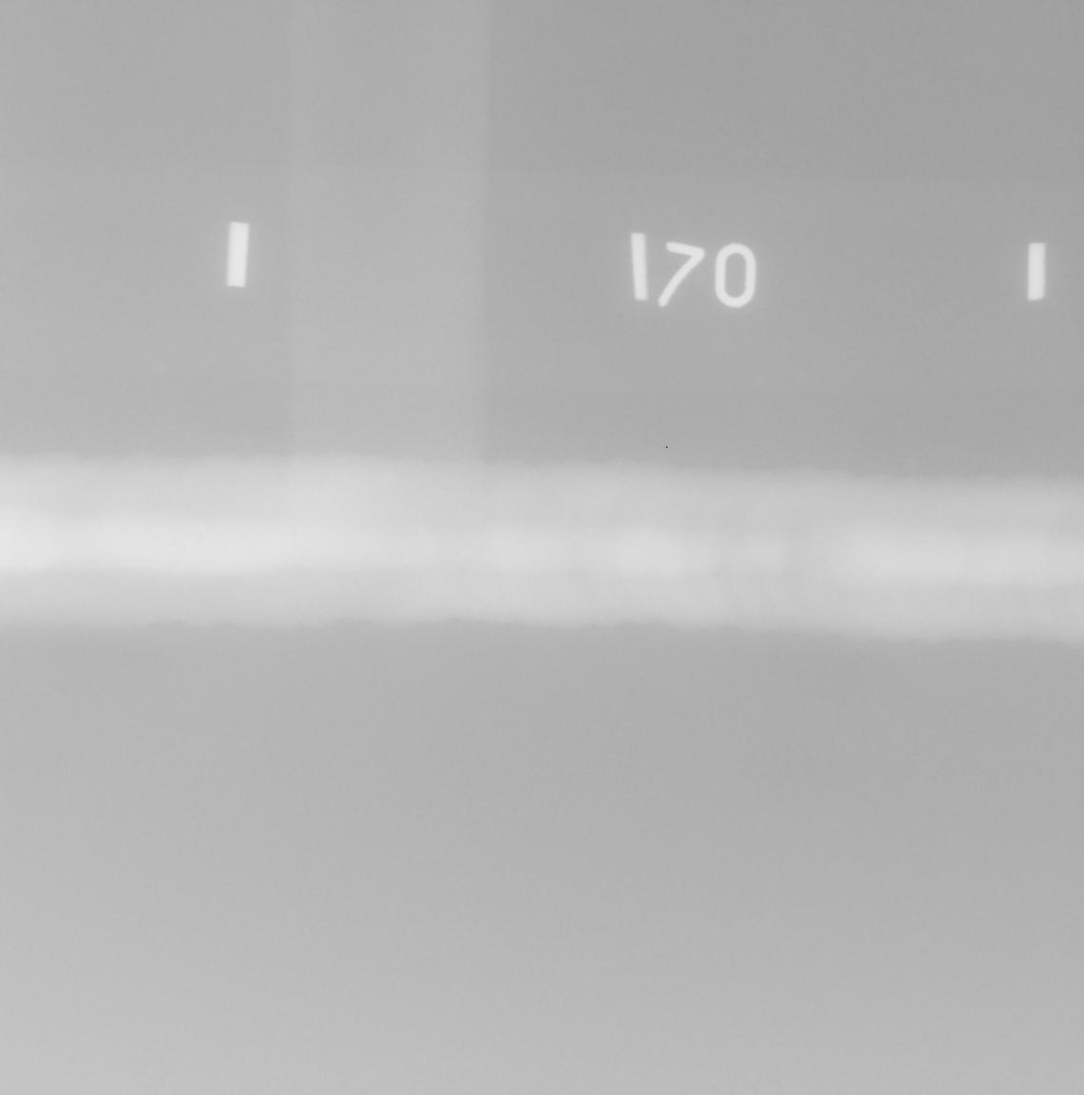Pore/Porosity: (714, 571, 719, 576), (198, 534, 201, 539)
